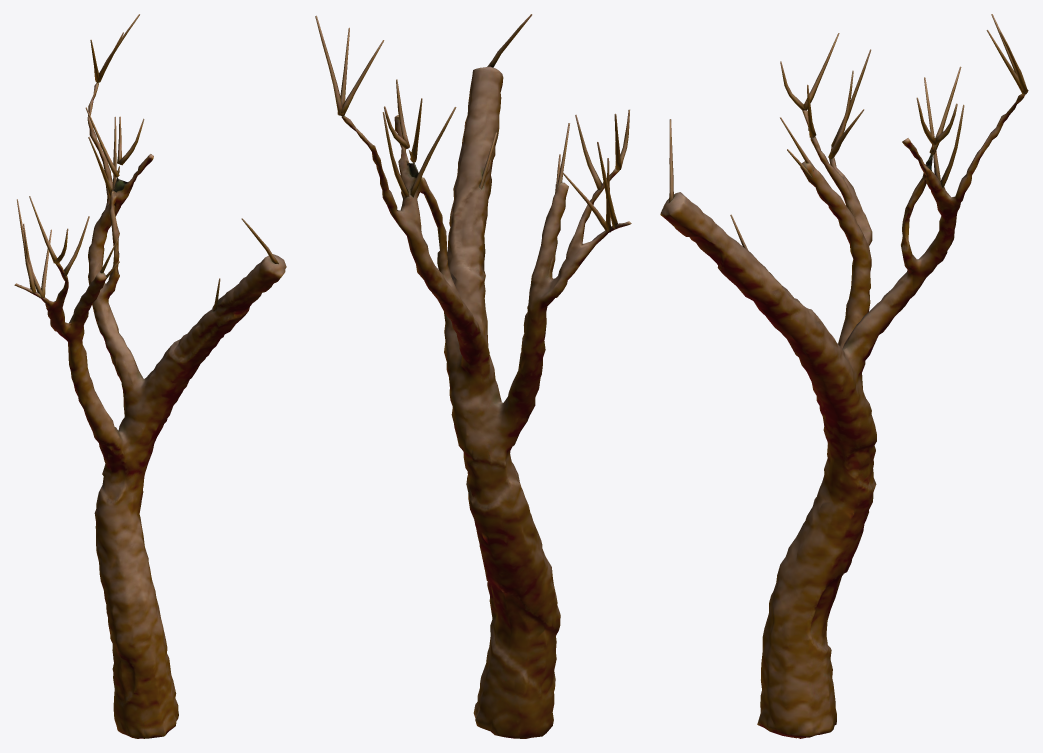
The model's file is hroot_c.glb.
The picture shows the model from 3 angles, left to right: view 1: azimuth 30°, elevation 25°; view 2: azimuth 150°, elevation 25°; view 3: azimuth 270°, elevation 25°; orthographic projection. The views are drawn at different scales.
Parts seen in each view (by area): view 1: bark, rootlets; view 2: bark, rootlets; view 3: bark, rootlets.
Part boxes in pixels (bbox=[...]): bark: bbox=[14, 83, 286, 738]; rootlets: bbox=[17, 14, 278, 311]; bark: bbox=[341, 66, 631, 738]; rootlets: bbox=[315, 14, 629, 232]; bark: bbox=[660, 94, 1025, 738]; rootlets: bbox=[668, 14, 1028, 250].
Bounding box in the file's own units: 0.4928 × 1.5 × 0.6666.
Materials: 2 (2 with a texture image).
